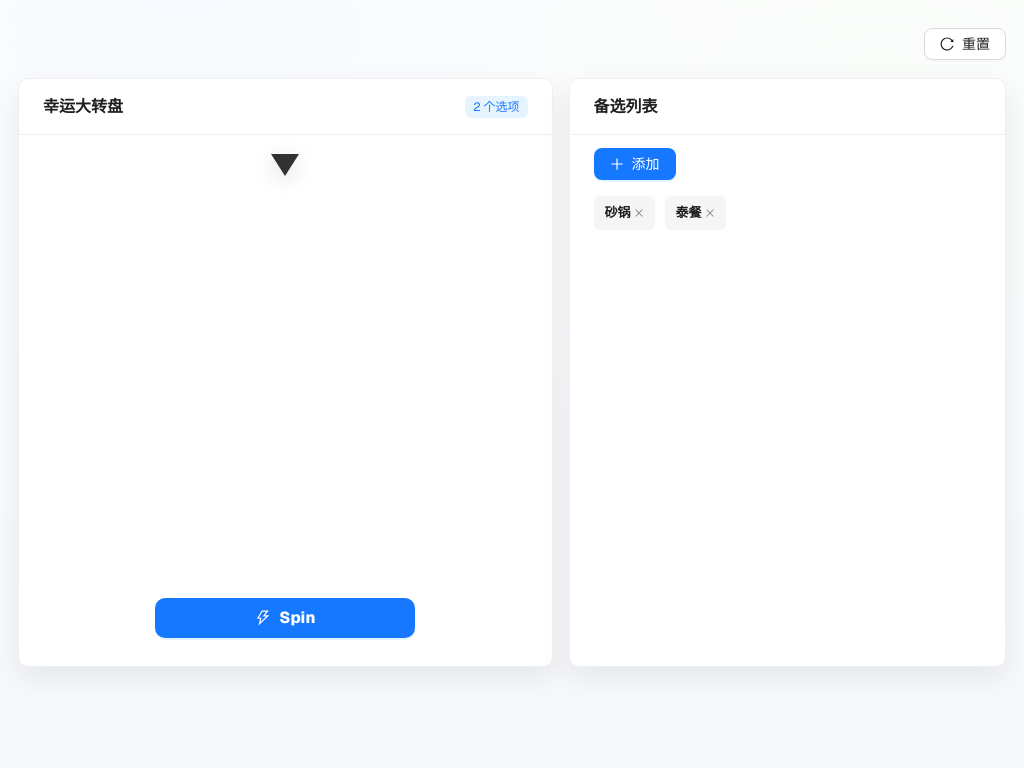
Page › resets the list and stores the default list
The width and height of the screenshot is (1024, 768).
Expected: the text "砂锅" is shown, [594,196,655,230]
Step 1. Click the button "重置" → (965, 44), box [924,28,1006,60]
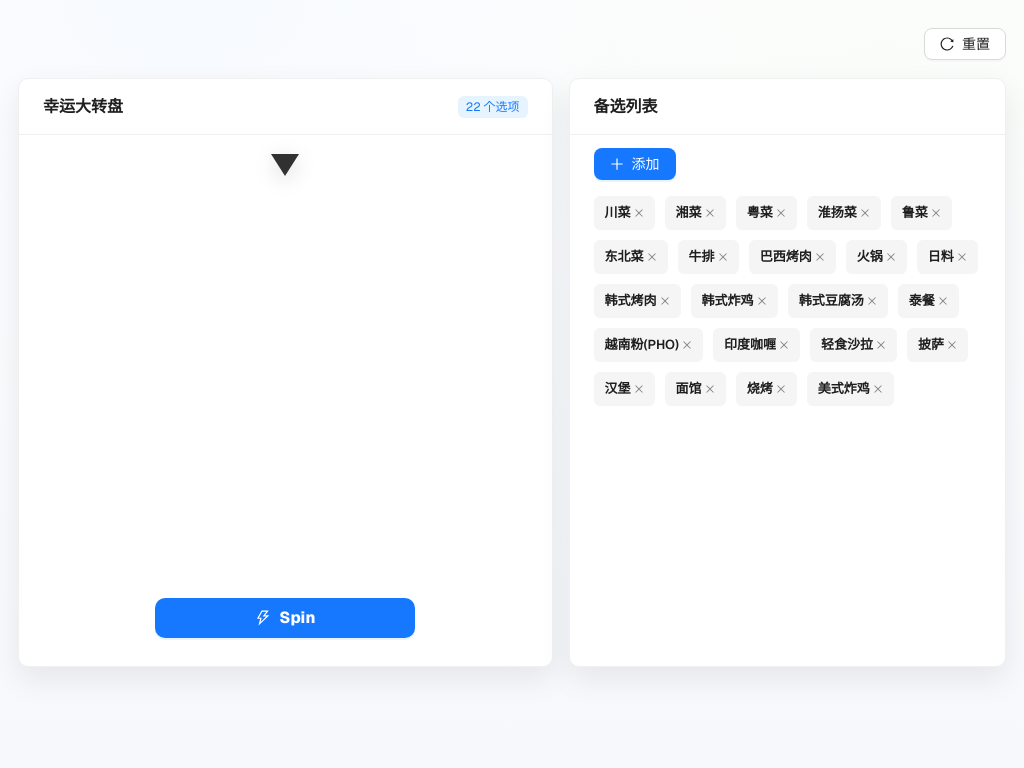
Now the text "砂锅" is gone
Now the text "川菜" is shown, box [594,196,655,230]
